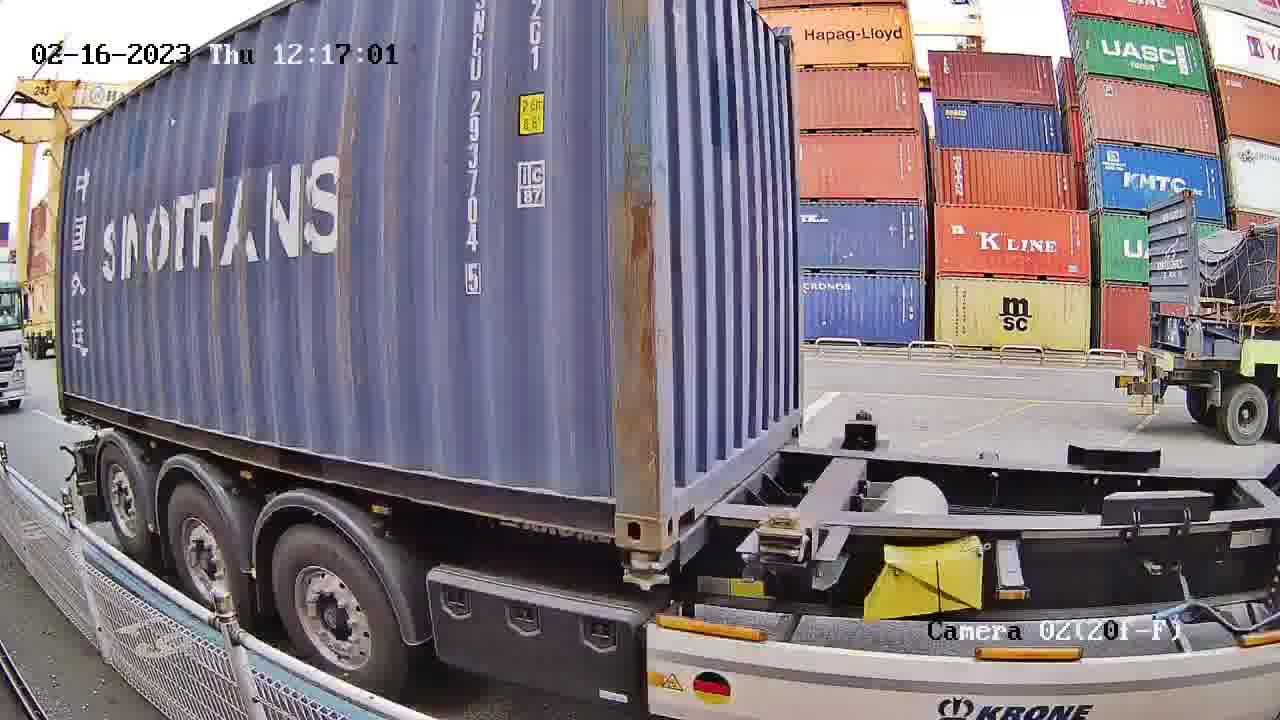Chassis: (623, 437, 802, 584)
Cone: (621, 547, 671, 590)
Hole_L: (660, 458, 701, 550)
Hole_R: (578, 471, 660, 553), (787, 400, 805, 441)
Tire: (273, 532, 401, 692), (170, 491, 245, 614), (104, 448, 147, 552)
